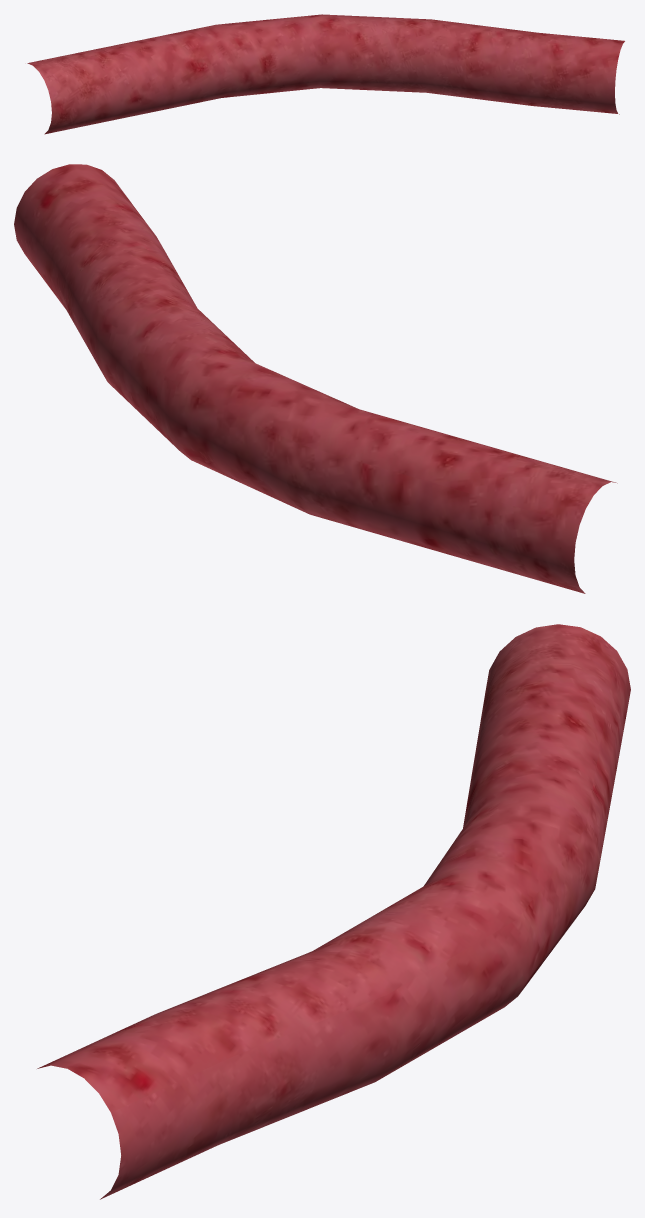
File: Renal_Artery1.glb
The picture shows the model from 3 angles, top to bottom: view 1: azimuth 30°, elevation 25°; view 2: azimuth 150°, elevation 25°; view 3: azimuth 270°, elevation 25°; orthographic projection. The views are drawn at different scales.
Parts seen in each view (by area): view 1: renal_artery1; view 2: renal_artery1; view 3: renal_artery1.
Boxes of the visible parts, x1,y1,x2,y2 form: renal_artery1: [27, 14, 624, 134]; renal_artery1: [14, 164, 617, 593]; renal_artery1: [37, 624, 630, 1199].
Size of the model in its own units: 24.75 by 3.26 by 13.86.
Materials: 1 (1 with a texture image).
